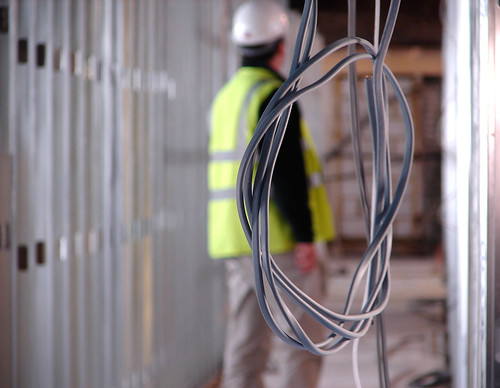person hardhat: (207, 3, 340, 384)
